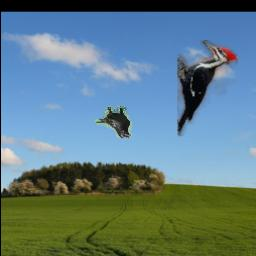Crow: (96, 107, 133, 139)
Woodpecker: (177, 41, 238, 137)
